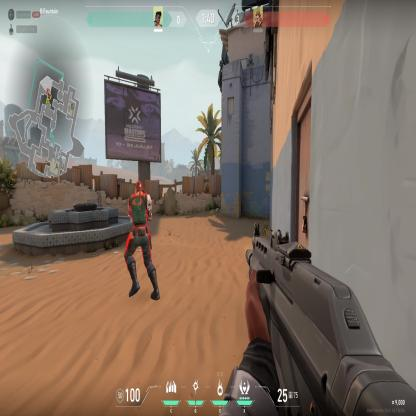enemy: (124, 179, 161, 302)
